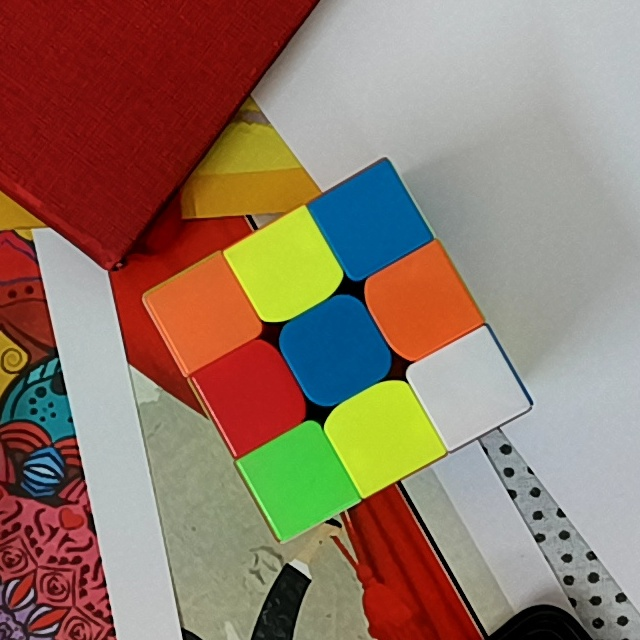tile: (383, 272, 454, 336), (349, 401, 417, 466), (218, 362, 285, 427), (335, 190, 403, 254), (438, 353, 502, 420), (303, 319, 369, 383), (271, 446, 334, 511), (258, 234, 318, 301), (174, 280, 234, 344)
